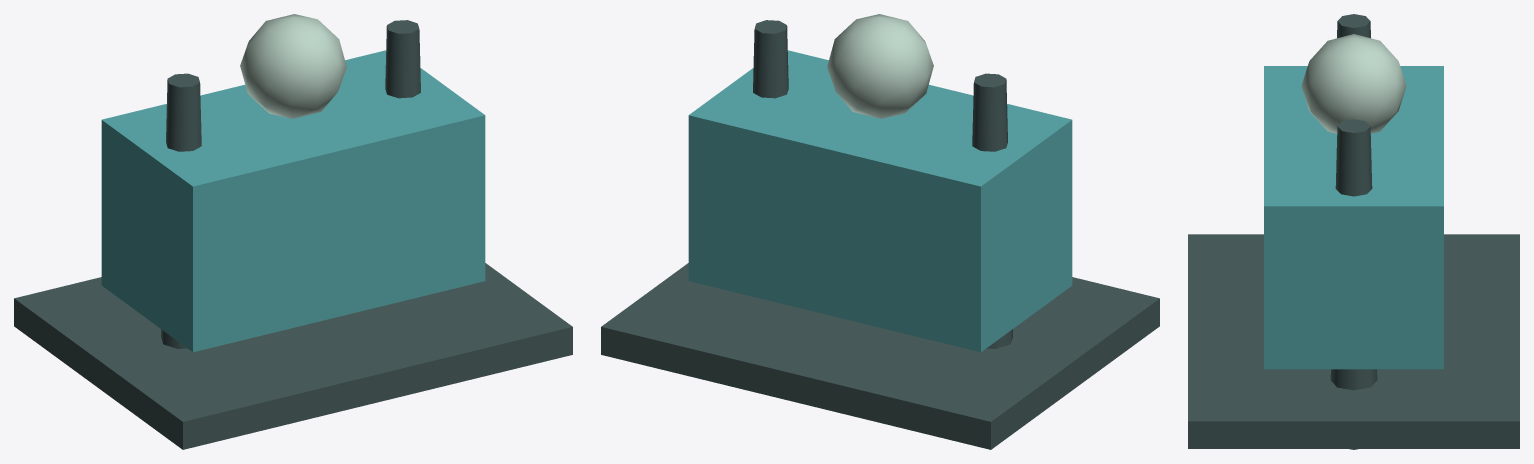
Rendered from oasis_lizard_shelter.glb.
3 renders of one model, left to right at view 1: azimuth 30°, elevation 25°; view 2: azimuth 150°, elevation 25°; view 3: azimuth 270°, elevation 25°, orthographic.
Parts seen in each view (by area): view 1: habitat_bowl, habitat_base, habitat_marker, habitat_post_-1, habitat_post_1; view 2: habitat_bowl, habitat_base, habitat_marker, habitat_post_-1, habitat_post_1; view 3: habitat_bowl, habitat_base, habitat_marker, habitat_post_1, habitat_post_-1.
Part boxes in pixels (x1,y1,x2,y2): habitat_bowl: (101, 50, 485, 352); habitat_base: (14, 263, 572, 449); habitat_marker: (240, 14, 346, 118); habitat_post_-1: (161, 73, 201, 348); habitat_post_1: (385, 20, 420, 98); habitat_bowl: (688, 50, 1072, 352); habitat_base: (601, 263, 1159, 449); habitat_marker: (827, 14, 933, 118); habitat_post_-1: (972, 73, 1012, 348); habitat_post_1: (753, 20, 788, 98); habitat_bowl: (1264, 66, 1443, 369); habitat_base: (1188, 234, 1519, 448); habitat_marker: (1301, 34, 1406, 133); habitat_post_1: (1330, 119, 1377, 449); habitat_post_-1: (1337, 14, 1370, 38).
Size of what is drawn, in the model's own units: 3.2 by 2.78 by 2.4.
